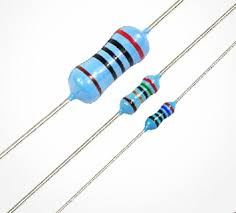resistor: (59, 22, 156, 109), (135, 95, 180, 143), (122, 74, 163, 115)
